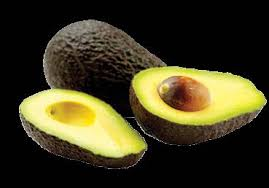fit_avocado: (33, 17, 177, 110)
